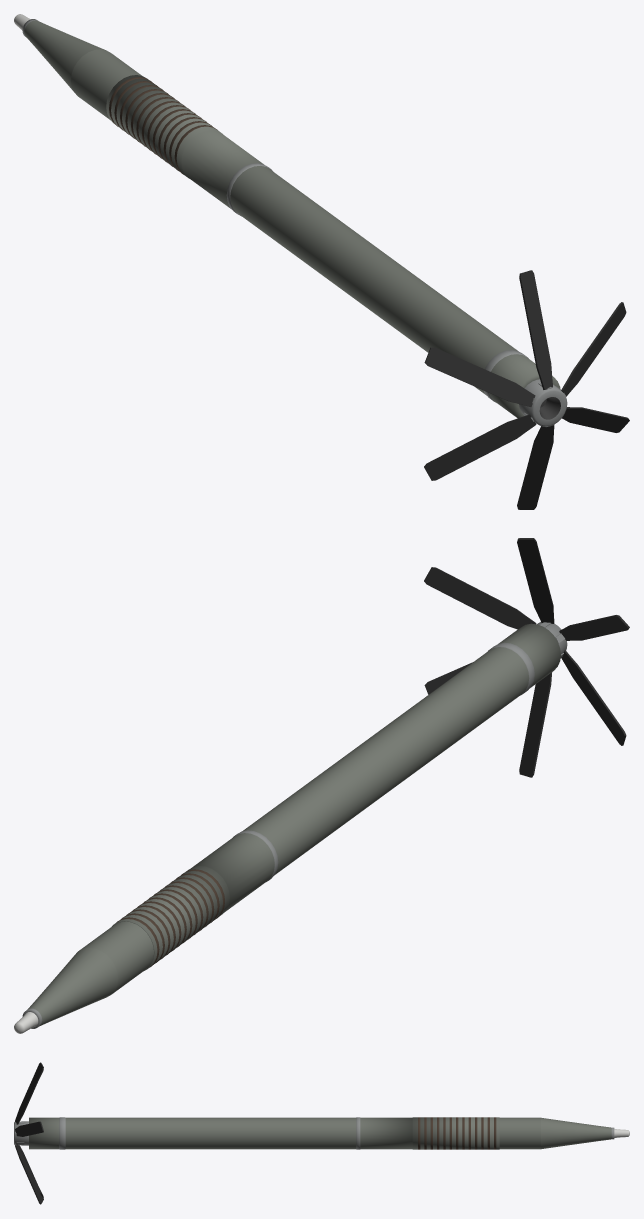
Rendered from w_nar_s8.glb.
3 views of the same model, one above another, from view 1: azimuth 30°, elevation 25°; view 2: azimuth 150°, elevation 25°; view 3: azimuth 270°, elevation 25° (orthographic). The views are drawn at different scales.
Parts seen in each view (by area): view 1: body|S8_body, body|S8_blade, body|S8_frag, body|S8_ring; view 2: body|S8_body, body|S8_blade, body|S8_frag, body|S8_ring; view 3: body|S8_body, body|S8_frag, body|S8_blade, body|S8_ring.
Part boxes in pixels (box(x1,y1,x2,y2)): body|S8_body: box(24, 20, 560, 418); body|S8_blade: box(424, 270, 629, 509); body|S8_frag: box(109, 77, 217, 174); body|S8_ring: box(22, 19, 567, 426); body|S8_body: box(27, 623, 560, 1025); body|S8_blade: box(424, 538, 629, 777); body|S8_frag: box(116, 869, 224, 966); body|S8_ring: box(22, 622, 567, 1028); body|S8_body: box(29, 1117, 611, 1149); body|S8_frag: box(418, 1117, 496, 1149); body|S8_blade: box(15, 1062, 43, 1204); body|S8_ring: box(14, 1117, 614, 1149).
Bounding box in the file's own units: 0.3458 × 0.3867 × 1.56.
